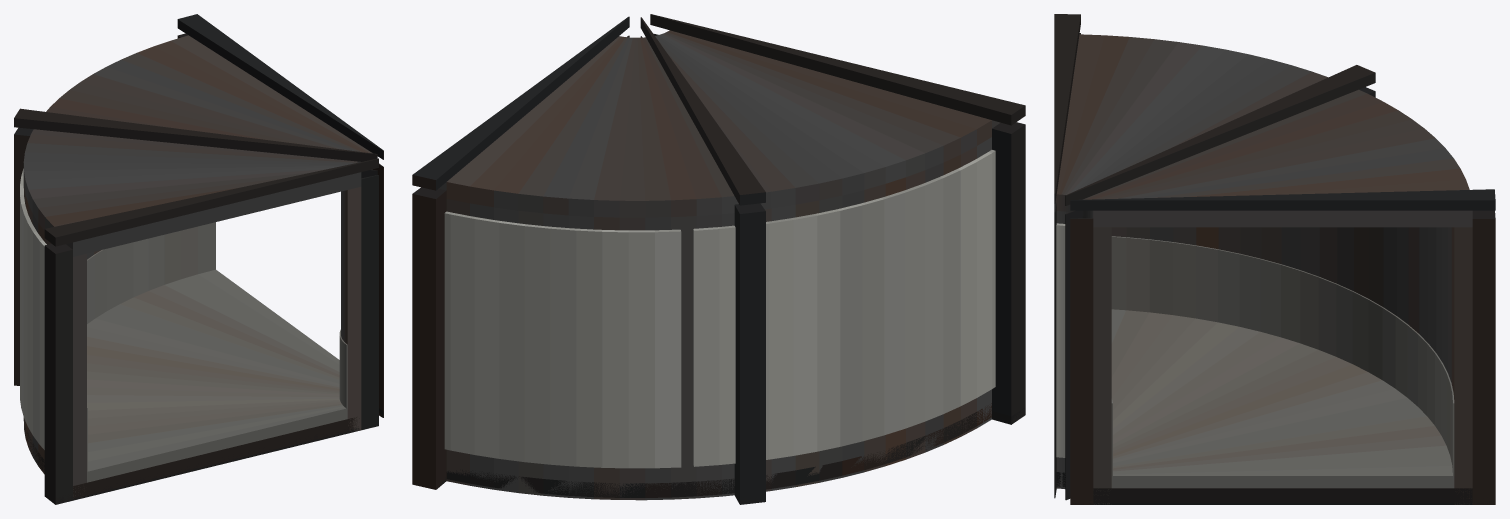
The model's file is chute_h_turn_right.glb.
The picture shows the model from 3 angles, left to right: view 1: azimuth 30°, elevation 25°; view 2: azimuth 150°, elevation 25°; view 3: azimuth 270°, elevation 25°; orthographic projection. The views are drawn at different scales.
Parts seen in each view (by area): view 1: Frame; view 2: Frame; view 3: Frame.
Boxes of the visible parts, x1=… form: Frame: x1=14, y1=14, x2=383, y2=504; Frame: x1=412, y1=14, x2=1025, y2=504; Frame: x1=1054, y1=14, x2=1495, y2=504.
Size of the model in its own units: 1.93 by 1.47 by 1.93.
